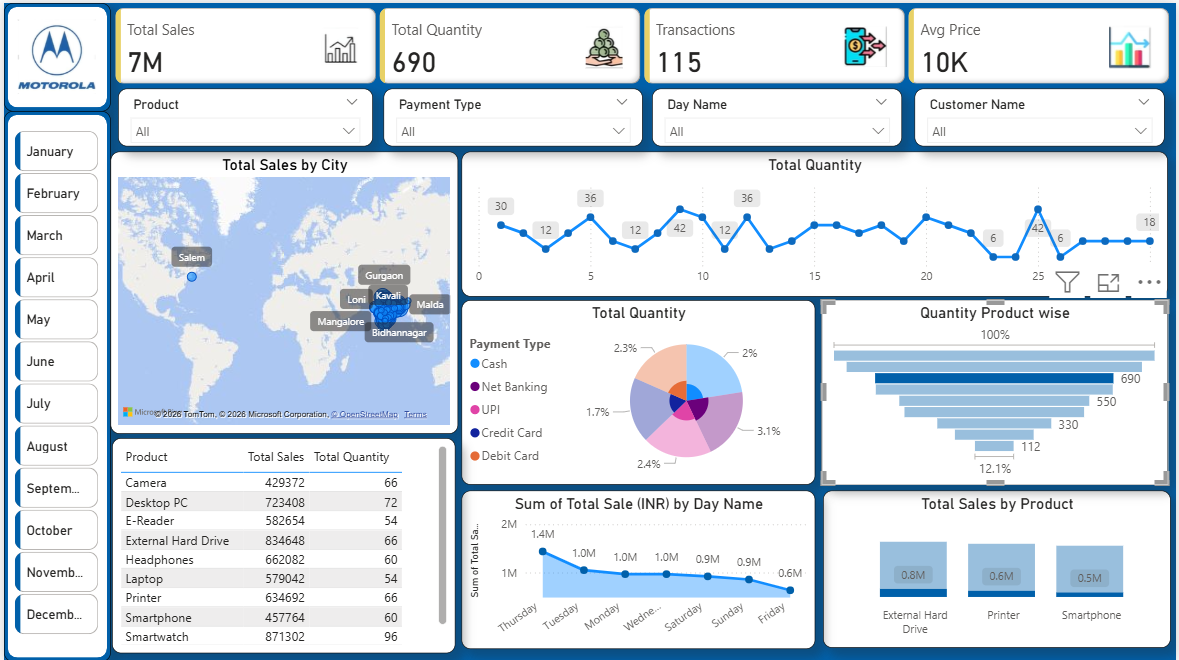

This screenshot's page, from the dashboard's own definition file:
{"tool":"powerbi","page":{"name":"Page 1","canvas":[1280,720],"ordinal":0},"visuals":[{"type":"shape","box":[0,0,116.7,118.3],"z":0},{"type":"image","box":[10,11.7,95,95],"z":1000},{"type":"shape","box":[0,118.3,116.7,601.7],"z":1001},{"type":"advancedSlicerVisual","fields":{"Values":["Sales_Data.Sales Date.Variation.Date Hierarchy.Month"]},"box":[6.7,135,101.7,570],"z":1002},{"type":"cardVisual","fields":{"Data":["Sales_Data.Total Sales","Sales_Data.Total Quantity","Sales_Data.Transactions","Sales_Data.Avg Price"]},"box":[116.7,0,1163.3,93.3],"z":1003},{"type":"map","fields":{"Category":["Sales_Data.City"],"Size":["Sales_Data.Total Sales"]},"box":[116.7,161.7,380,308.3],"z":1004},{"type":"lineChart","title":"Total Quantity","fields":{"Category":["Sales_Data.Sales Date.Variation.Date Hierarchy.Month","Sales_Data.Sales Date.Variation.Date Hierarchy.Day"],"Y":["Sales_Data.Total Quantity"]},"box":[500,161.7,771.7,158.3],"z":1005},{"type":"clusteredColumnChart","title":"Total Sales by Product","fields":{"Y":["Sum(Sales_Data.Total Sale (INR))"],"Category":["Sales_Data.Product"]},"box":[895,533.3,380,171.7],"z":1006},{"type":"pieChart","title":"Total Quantity","fields":{"Category":["Sales_Data.Payment Type"],"Y":["Sales_Data.Transactions"]},"box":[500,325,386.7,201.7],"z":1007},{"type":"funnel","title":"Quantity Product wise","fields":{"Category":["Sales_Data.Quantity"],"Y":["Sum(Sales_Data.Quantity)"]},"box":[893.3,325,378.3,201.7],"z":1008},{"type":"areaChart","fields":{"Category":["Sales_Data.Day Name"],"Y":["Sum(Sales_Data.Total Sale (INR))"]},"box":[500,533.3,386.7,173.3],"z":1009},{"type":"tableEx","title":"Total Quantity","fields":{"Values":["Sales_Data.Product","Sales_Data.Total Sales","Sales_Data.Total Quantity"]},"box":[118.3,475,375,235],"z":1010},{"type":"slicer","fields":{"Values":["Sales_Data.Product"]},"box":[125,93.3,278.3,63.3],"z":1011},{"type":"slicer","fields":{"Values":["Sales_Data.Payment Type"]},"box":[415,93.3,283.3,63.3],"z":1012},{"type":"slicer","fields":{"Values":["Sales_Data.Day Name"]},"box":[708.3,93.3,273.3,63.3],"z":1013},{"type":"slicer","fields":{"Values":["Sales_Data.Customer Name"]},"box":[995,93.3,273.3,63.3],"z":1014}]}

Visuals, with their boxes in screenshot pixels (x1, y1, x2, y2), scaled from the page's 1280x720 canvas onto the 1179x660 screenshot:
shape: x1=0 y1=0 x2=107 y2=108
image: x1=9 y1=11 x2=97 y2=98
shape: x1=0 y1=108 x2=107 y2=659
advancedSlicerVisual - Sales_Data.Sales Date.Variation.Date Hierarchy.Month: x1=6 y1=124 x2=100 y2=646
cardVisual - Sales_Data.Total Sales x Sales_Data.Total Quantity: x1=107 y1=0 x2=1178 y2=86
map - Sales_Data.City x Sales_Data.Total Sales: x1=107 y1=148 x2=458 y2=431
"Total Quantity" lineChart: x1=461 y1=148 x2=1171 y2=293
"Total Sales by Product" clusteredColumnChart: x1=824 y1=489 x2=1174 y2=646
"Total Quantity" pieChart: x1=461 y1=298 x2=817 y2=483
"Quantity Product wise" funnel: x1=823 y1=298 x2=1171 y2=483
areaChart - Sales_Data.Day Name x Sum(Sales_Data.Total Sale (INR)): x1=461 y1=489 x2=817 y2=648
"Total Quantity" tableEx: x1=109 y1=435 x2=454 y2=651
slicer - Sales_Data.Product: x1=115 y1=86 x2=371 y2=144
slicer - Sales_Data.Payment Type: x1=382 y1=86 x2=643 y2=144
slicer - Sales_Data.Day Name: x1=652 y1=86 x2=904 y2=144
slicer - Sales_Data.Customer Name: x1=916 y1=86 x2=1168 y2=144
